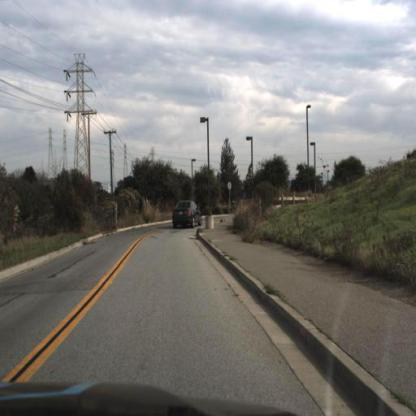car: (173, 202, 202, 229)
